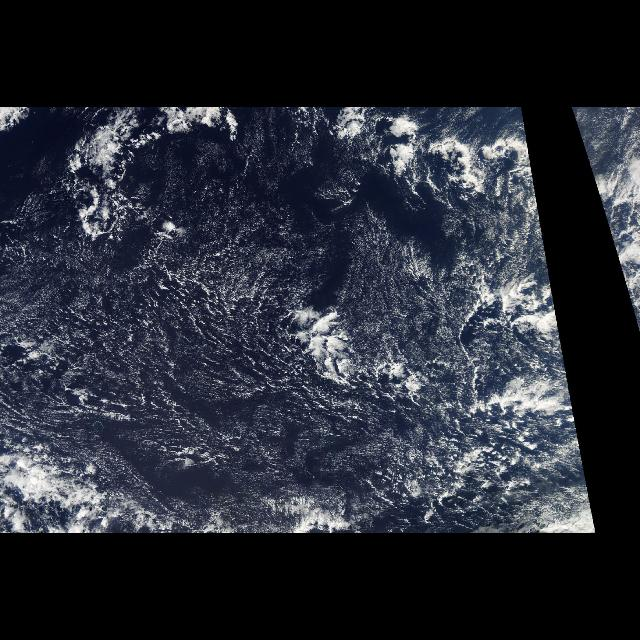Flower: (332, 115, 530, 242)
Gravel: (14, 202, 594, 520), (600, 203, 618, 263)
Sugar: (37, 359, 387, 516)
